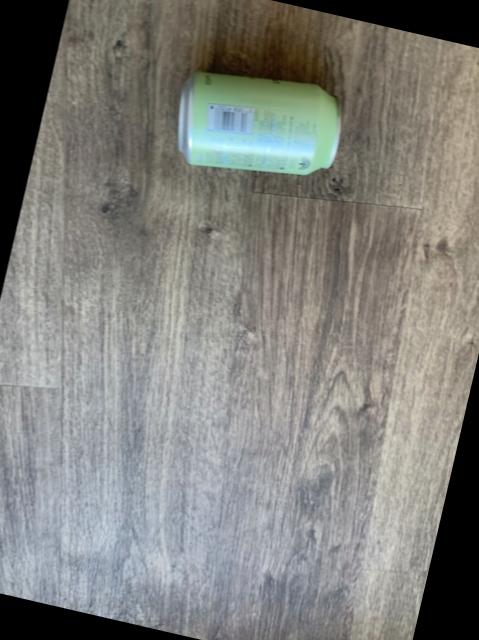metal: (179, 70, 340, 171)
